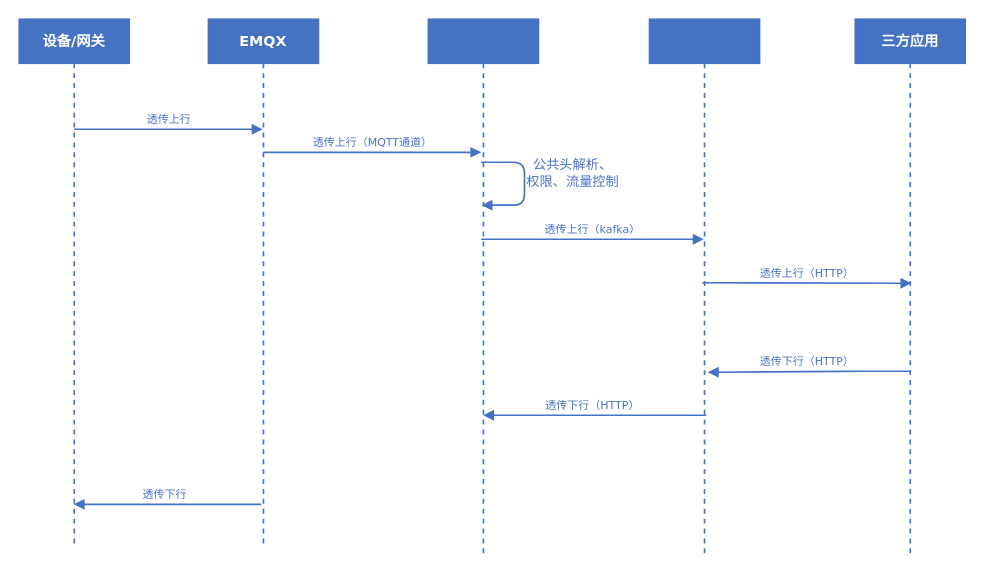
Some shapes in this 986 by 579 pixel diagram are drawn without their labels. Here are the shapes that lost their labels. From the top down, the box of each, then its label:
(427, 18, 539, 559): access
(648, 18, 760, 559): accessRule
